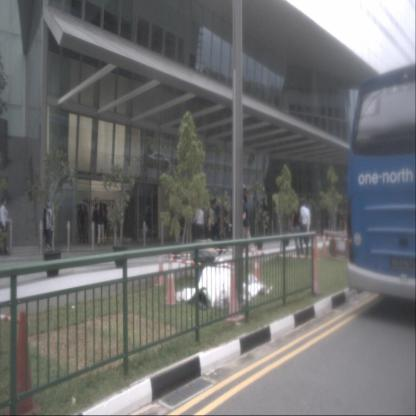cone: (3, 310, 43, 416), (224, 262, 245, 323), (306, 235, 324, 296), (163, 258, 179, 306), (250, 254, 263, 295), (154, 252, 167, 287), (320, 233, 328, 259)
